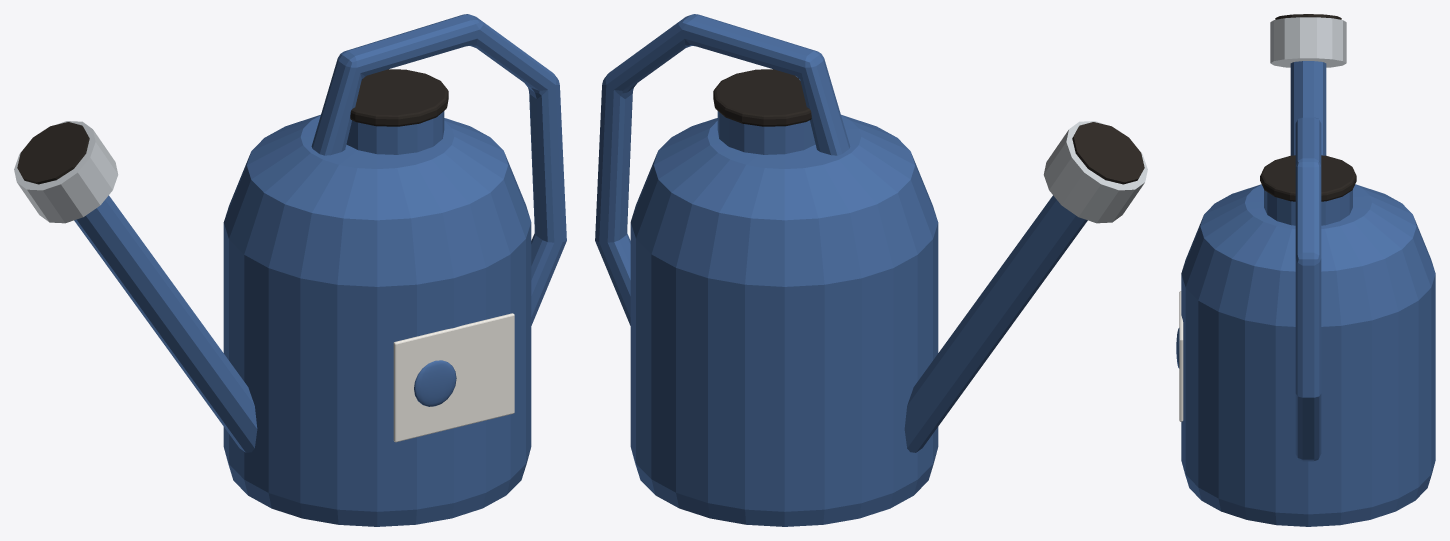
The model's file is hh_cat_watering_v.glb.
The picture shows the model from 3 angles, left to right: view 1: azimuth 30°, elevation 25°; view 2: azimuth 150°, elevation 25°; view 3: azimuth 270°, elevation 25°; orthographic projection. The views are drawn at different scales.
Visible parts, largest first — view 1: can_body, can_handle, spout, label, rose, filler_cap, rose_holes, filler_neck, label_drop; view 2: can_body, can_handle, spout, rose, filler_cap, rose_holes, filler_neck; view 3: can_body, can_handle, rose, filler_cap, spout, filler_neck, label.
Part boxes in pixels (x1,y1,x2,y2): can_body: (223, 114, 531, 526); can_handle: (311, 14, 566, 325); spout: (74, 195, 257, 452); label: (393, 313, 514, 442); rose: (14, 121, 118, 223); filler_cap: (350, 69, 448, 126); rose_holes: (17, 122, 89, 184); filler_neck: (346, 111, 444, 154); label_drop: (414, 360, 456, 406); can_body: (630, 114, 938, 526); can_handle: (595, 14, 850, 325); spout: (904, 195, 1087, 452); rose: (1043, 121, 1147, 223); filler_cap: (713, 69, 811, 126); rose_holes: (1072, 122, 1144, 184); filler_neck: (717, 111, 815, 154); can_body: (1181, 184, 1435, 526); can_handle: (1295, 117, 1321, 461); rose: (1270, 17, 1346, 67); filler_cap: (1260, 155, 1356, 201); spout: (1290, 61, 1326, 155); filler_neck: (1264, 189, 1352, 225); label: (1179, 291, 1183, 421).
Size of the model in its own units: 0.4 by 0.3 by 0.2.
